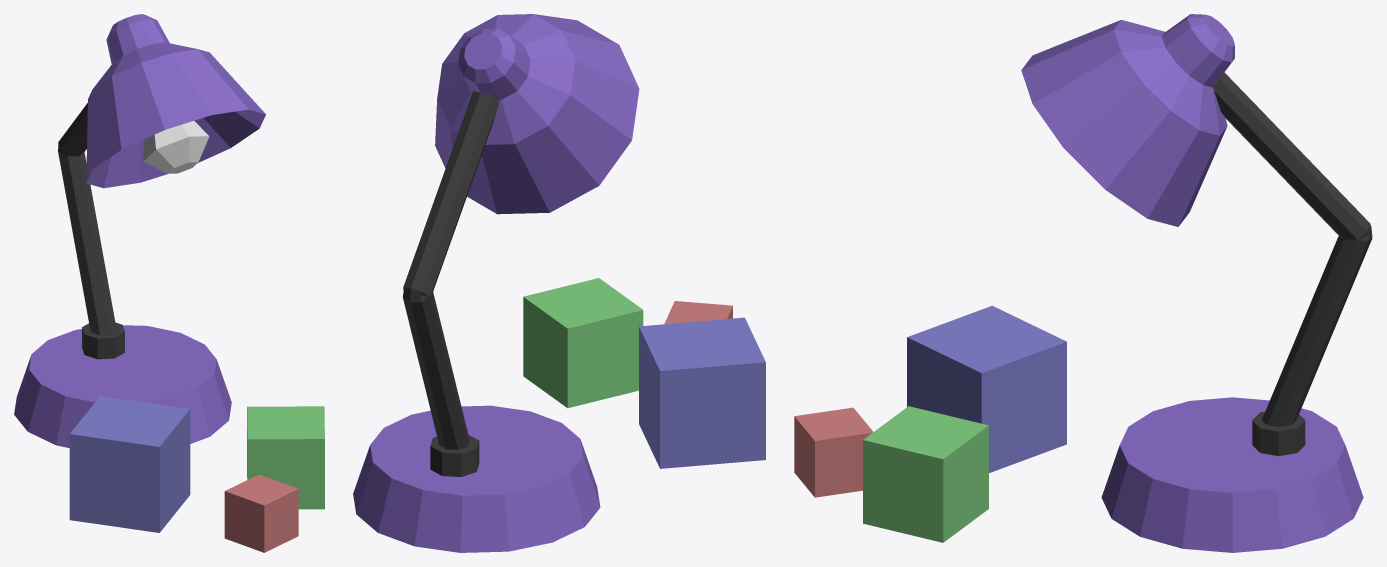
File: lamp.fbx
3 views of the same model, side by side, from view 1: azimuth 30°, elevation 25°; view 2: azimuth 150°, elevation 25°; view 3: azimuth 270°, elevation 25° (orthographic). The views are drawn at different scales.
Visible parts, largest first — view 1: Lamp, Base, Cube_Big, Cube_Mid, Stem_Bottom, Cube_Small, Stem_Top; view 2: Lamp, Base, Cube_Big, Cube_Mid, Stem_Top, Stem_Bottom, Cube_Small; view 3: Base, Lamp, Cube_Big, Cube_Mid, Stem_Bottom, Stem_Top, Cube_Small.
Boxes of the visible parts, box(x1,y1,x2,y2) form: Lamp: box(86, 14, 265, 188); Base: box(14, 322, 231, 447); Cube_Big: box(69, 396, 190, 532); Cube_Mid: box(247, 406, 324, 509); Stem_Bottom: box(58, 149, 116, 335); Cube_Small: box(224, 474, 298, 552); Stem_Top: box(58, 103, 87, 156); Lamp: box(435, 14, 639, 214); Base: box(353, 405, 600, 552); Cube_Big: box(639, 317, 765, 468); Cube_Mid: box(523, 278, 643, 408); Stem_Top: box(403, 90, 498, 296); Stem_Bottom: box(403, 286, 469, 449); Cube_Small: box(664, 301, 732, 324); Base: box(1101, 397, 1363, 552); Lamp: box(1021, 14, 1234, 226); Cube_Big: box(907, 305, 1066, 472); Cube_Mid: box(863, 406, 988, 542); Stem_Bottom: box(1261, 225, 1372, 426); Stem_Top: box(1213, 72, 1370, 240); Cube_Small: box(794, 407, 873, 497).
Bounding box in the file's own units: 1.88 × 2.91 × 3.17.
